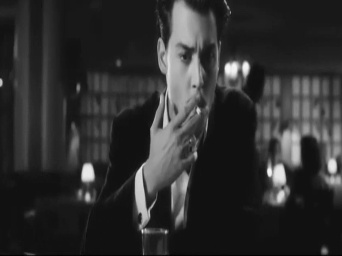smoke: (192, 102, 203, 116)
